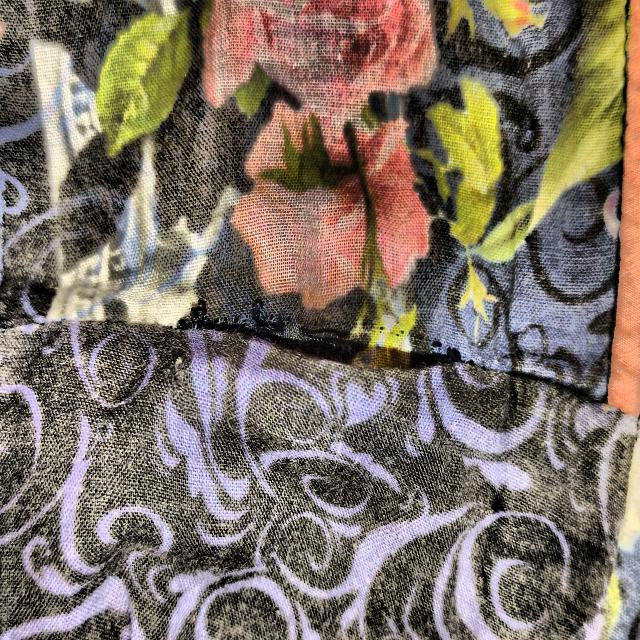seam: (163, 262, 461, 430)
